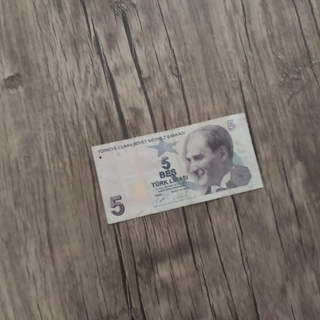5TLFront: (91, 112, 265, 224)
